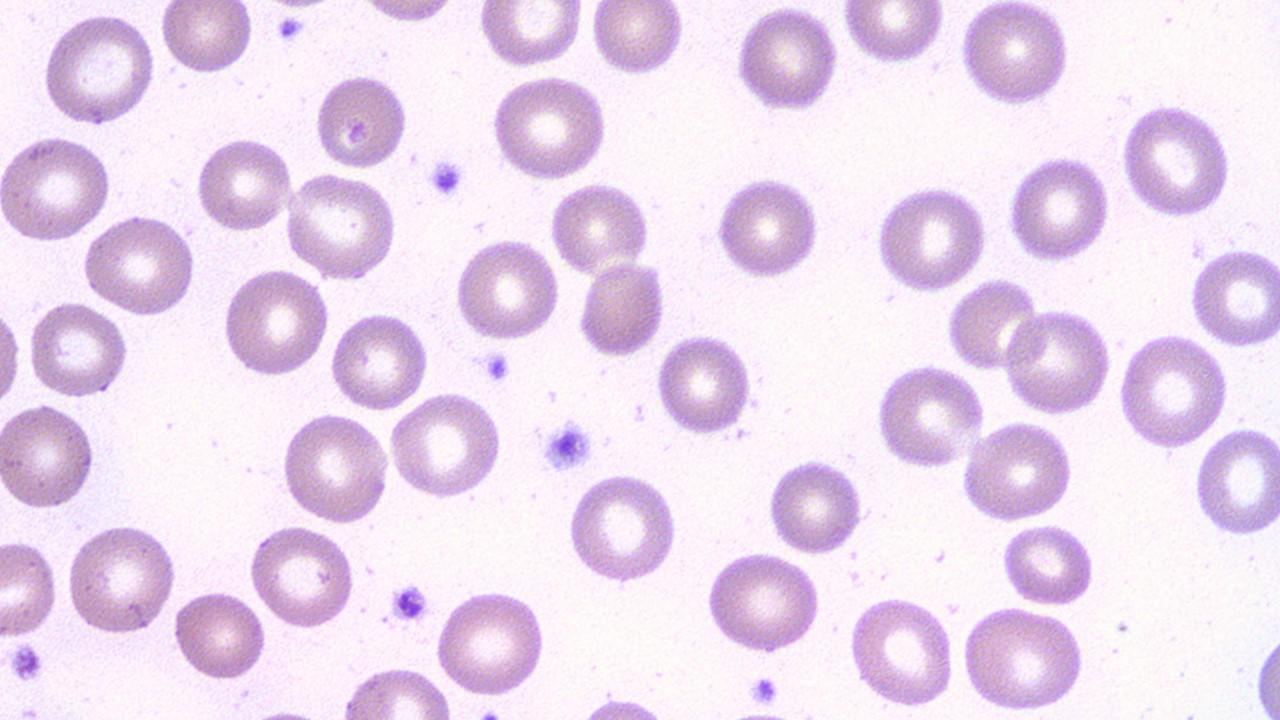Platelets: (538, 417, 594, 477), (6, 638, 47, 686), (388, 580, 432, 624), (426, 155, 467, 200), (747, 672, 782, 712), (481, 348, 512, 384), (275, 13, 307, 44), (474, 706, 504, 720), (630, 400, 647, 424)
RBC: (958, 603, 1090, 714), (38, 10, 158, 129), (1117, 100, 1235, 219), (63, 520, 180, 640), (1114, 330, 1230, 449), (845, 591, 958, 711), (488, 72, 611, 182), (433, 585, 549, 700), (873, 180, 990, 294), (564, 472, 681, 586), (278, 409, 392, 526), (388, 388, 506, 501), (702, 548, 825, 656), (283, 168, 398, 282), (1, 132, 117, 244), (1002, 303, 1114, 417), (220, 265, 331, 380), (872, 360, 986, 470), (80, 212, 198, 318), (956, 2, 1073, 108), (712, 172, 824, 282), (246, 522, 357, 632), (960, 420, 1078, 523), (1006, 152, 1113, 265), (732, 5, 842, 113), (451, 236, 563, 342), (654, 328, 756, 437), (0, 398, 97, 512), (25, 298, 134, 398), (328, 310, 431, 413), (764, 456, 868, 558), (546, 179, 654, 277), (1191, 422, 1280, 540), (192, 135, 294, 234), (946, 274, 1044, 375), (169, 587, 271, 684), (1187, 244, 1279, 350), (313, 71, 410, 171), (574, 260, 667, 359), (998, 520, 1100, 608), (588, 0, 686, 77), (158, 0, 254, 76), (476, 1, 584, 68), (840, 2, 946, 66), (336, 663, 454, 717), (1, 536, 60, 642), (1248, 606, 1280, 718), (0, 292, 24, 417), (352, 0, 465, 26)
